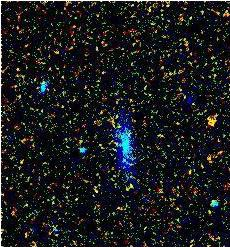star: (193, 110, 223, 140)
